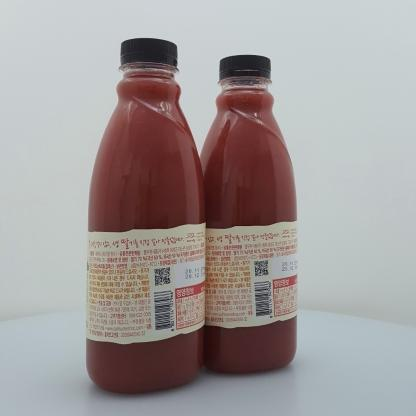--------------700ML: (86, 38, 206, 393), (195, 55, 297, 373)
